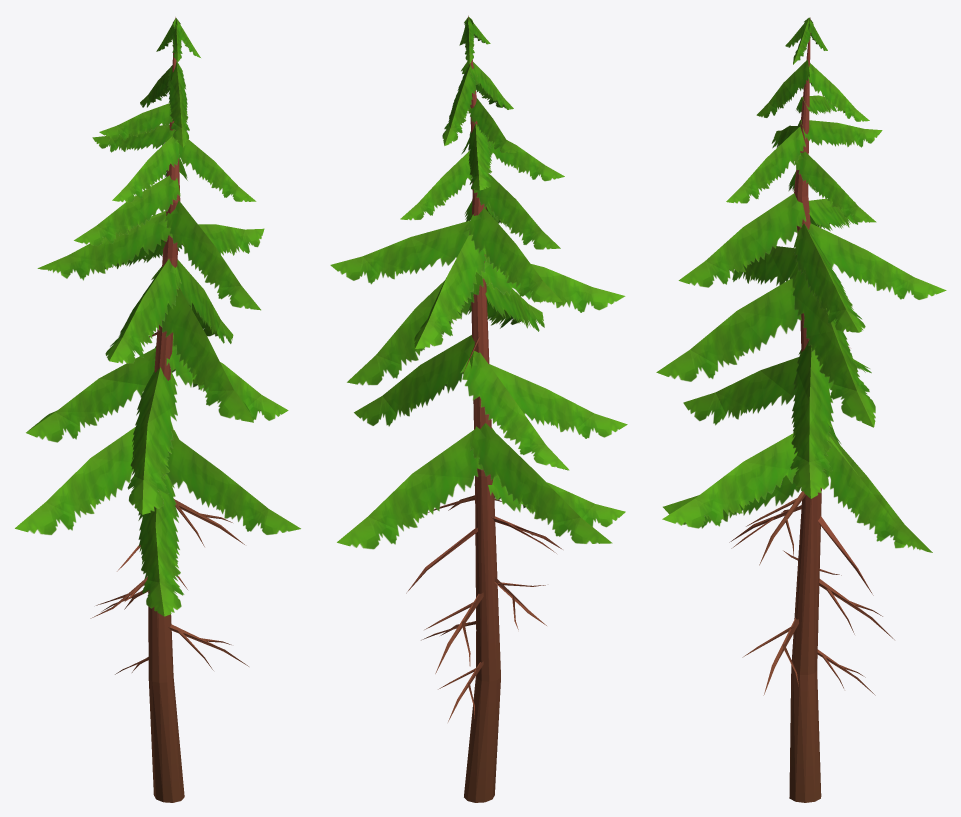
Rendered from tree3.glb.
The picture shows the model from 3 angles, left to right: view 1: azimuth 30°, elevation 25°; view 2: azimuth 150°, elevation 25°; view 3: azimuth 270°, elevation 25°; orthographic projection.
Visible parts, largest first — view 1: MAT_Leaf, MAT_MAIN; view 2: MAT_Leaf, MAT_MAIN; view 3: MAT_Leaf, MAT_MAIN.
Part boxes in pixels (<box>): MAT_Leaf: <box>15,18,300,616</box>; MAT_MAIN: <box>90,17,248,802</box>; MAT_Leaf: <box>330,16,627,549</box>; MAT_MAIN: <box>406,15,562,802</box>; MAT_Leaf: <box>656,17,946,552</box>; MAT_MAIN: <box>729,17,894,802</box>.
Size of the model in its own units: 8.23 by 22.99 by 7.7.
Materials: 2 (2 with a texture image).
